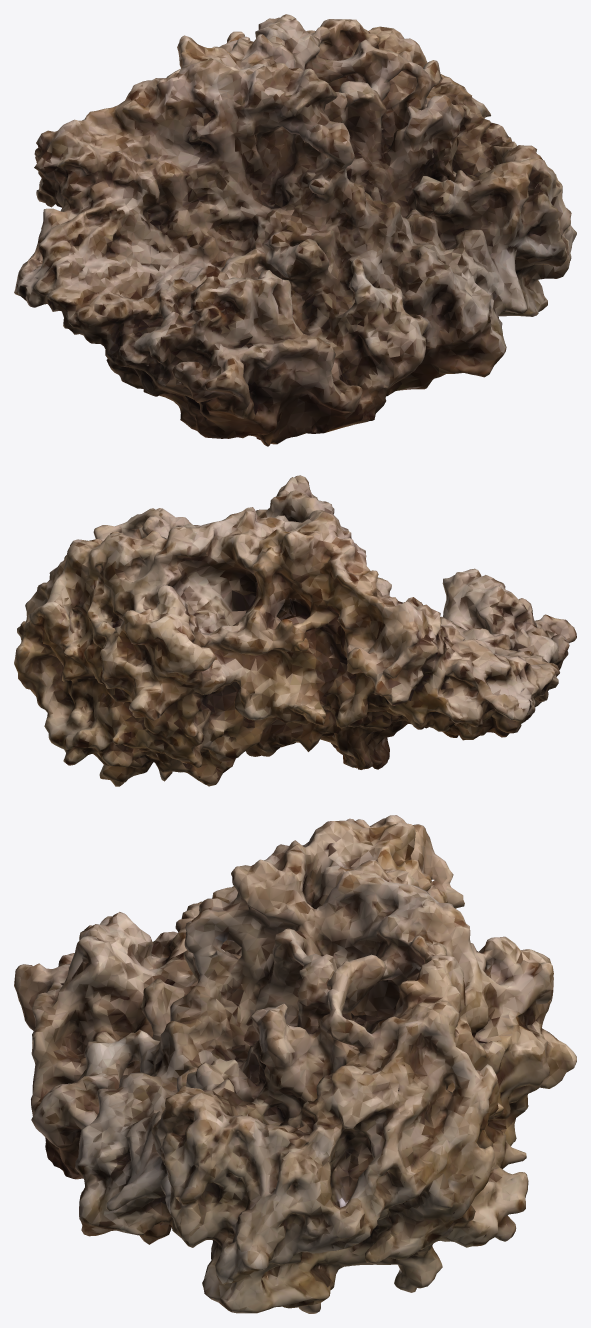
File: LopheliaPertusa.glb
The picture shows the model from 3 angles, top to bottom: view 1: azimuth 30°, elevation 25°; view 2: azimuth 150°, elevation 25°; view 3: azimuth 270°, elevation 25°; orthographic projection. The views are drawn at different scales.
Parts seen in each view (by area): view 1: Stereo textured mesh_Material0_0.008; view 2: Stereo textured mesh_Material0_0.008; view 3: Stereo textured mesh_Material0_0.008.
Part boxes in pixels (left/top/right/bottom): Stereo textured mesh_Material0_0.008: left=14, top=14, right=576, bottom=446; Stereo textured mesh_Material0_0.008: left=14, top=475, right=576, bottom=786; Stereo textured mesh_Material0_0.008: left=14, top=815, right=576, bottom=1313.
Bounding box in the file's own units: 0.2904 × 0.1763 × 0.2293.
1 material, 1 textured.
